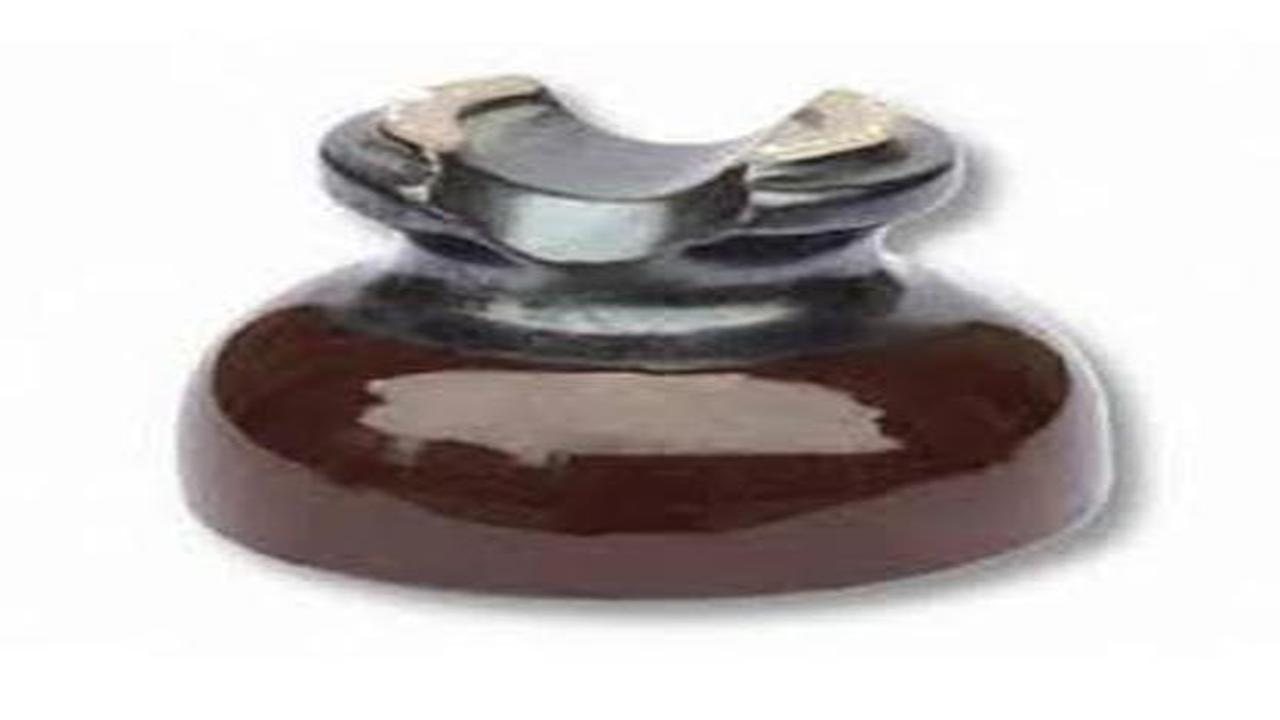insulator_pin: (154, 68, 1148, 613)
